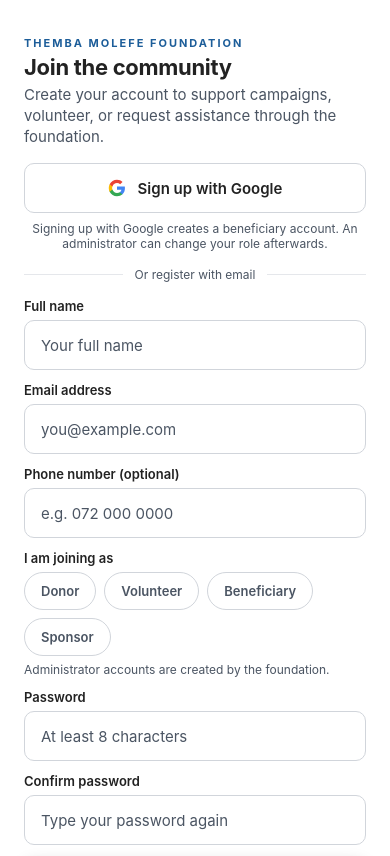
it: RegisterScreen › catches passwords that do not match
This screenshot has width=390, height=856.
Type "Thandi Mokoena" into the field with placeholder "Your full name". click: (195, 345)
box: [24,320,366,370]
Type "thandi@example.com" into the field with placeholder "you@example.com". click: (195, 429)
box: [24,404,366,454]
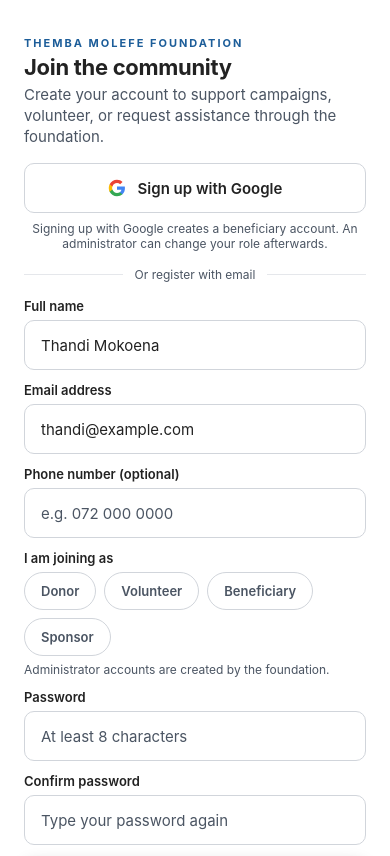
Type "072 000 0000" into the field with placeholder "e.g. 072 000 0000". click: (195, 513)
box: [24,488,366,538]
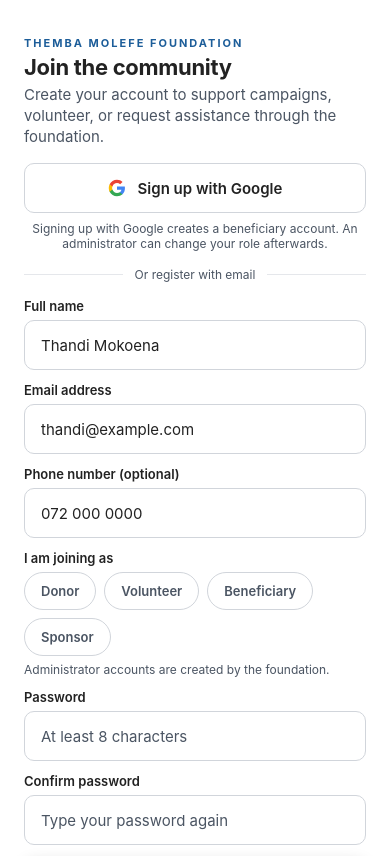
Type "community123" into the password field with placeholder "At least 8 characters". click: (195, 736)
box: [24,711,366,761]
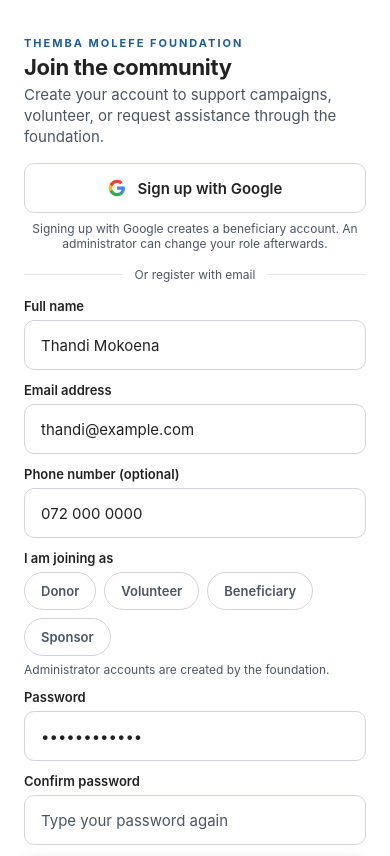
Type "community124" into the password field with placeholder "Type your password again". click: (195, 820)
box: [24,795,366,845]
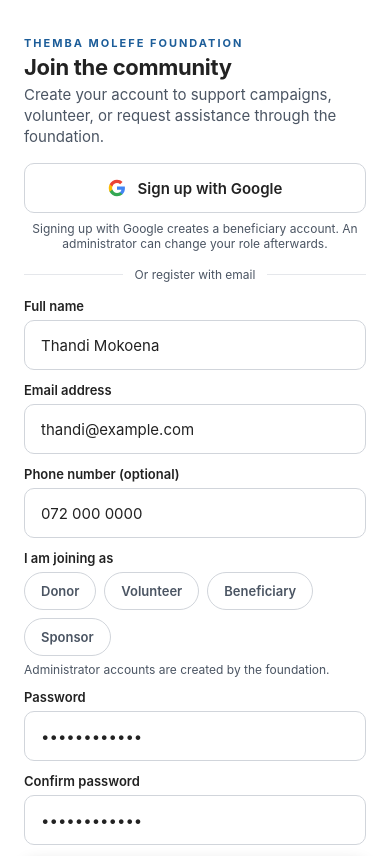
Click the radio button "Donor". click: (60, 591)
box: [24,572,96,610]
(page scrolled)
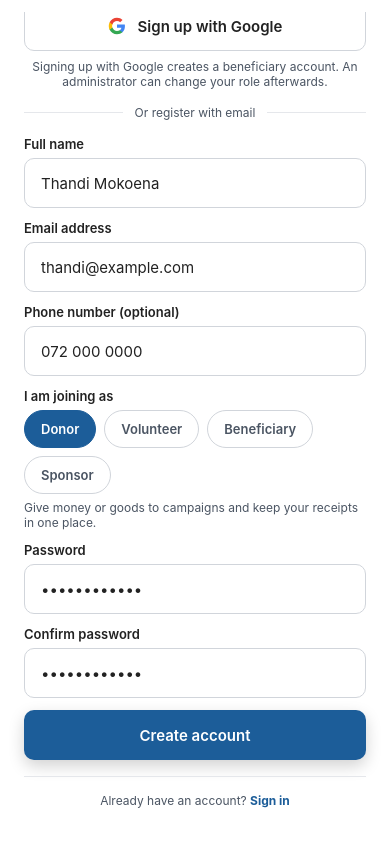
Click the button "Create account". click: (195, 735)
box: [24,710,366,760]
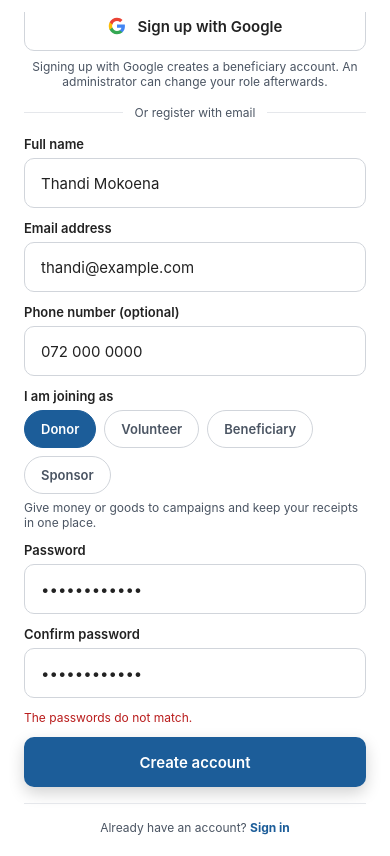
Expected: the text "The passwords do not match." is shown, [24,710,192,725]
